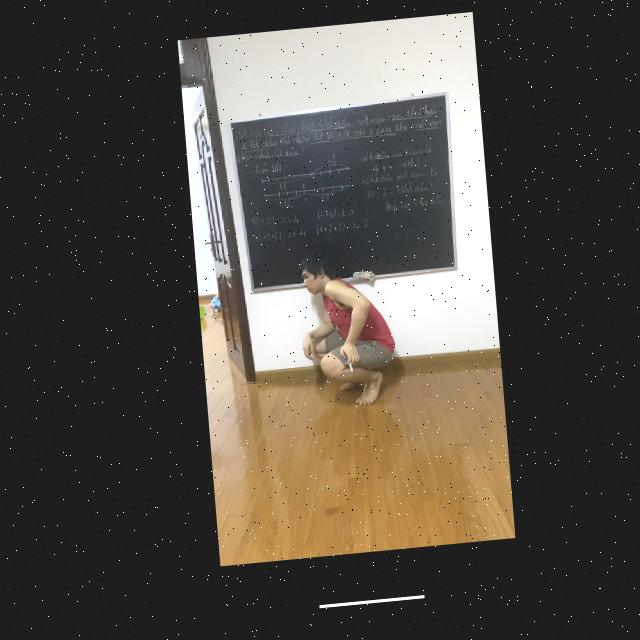cigarette: (340, 366, 345, 380)
